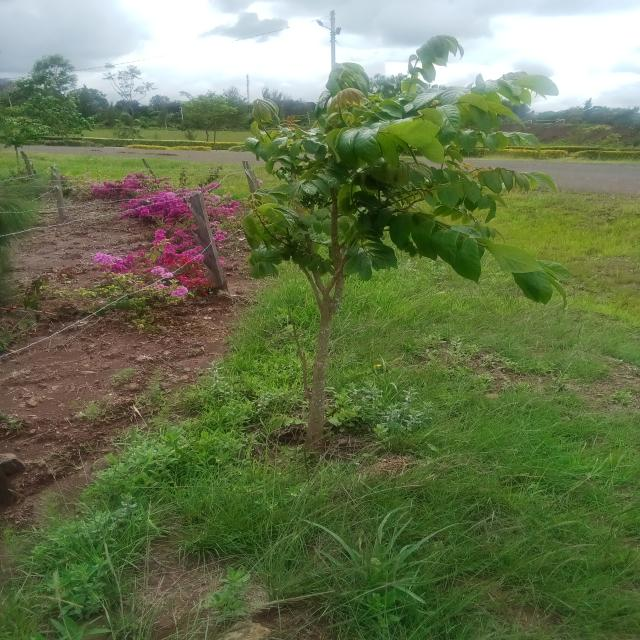Polyscias Kikuyensis: (226, 36, 582, 444)
